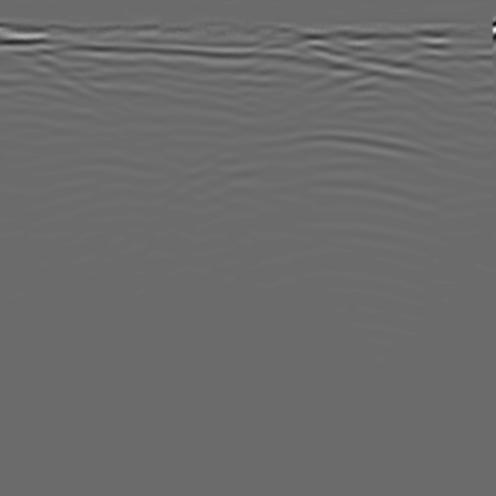hyperbola: (211, 119, 458, 220)
